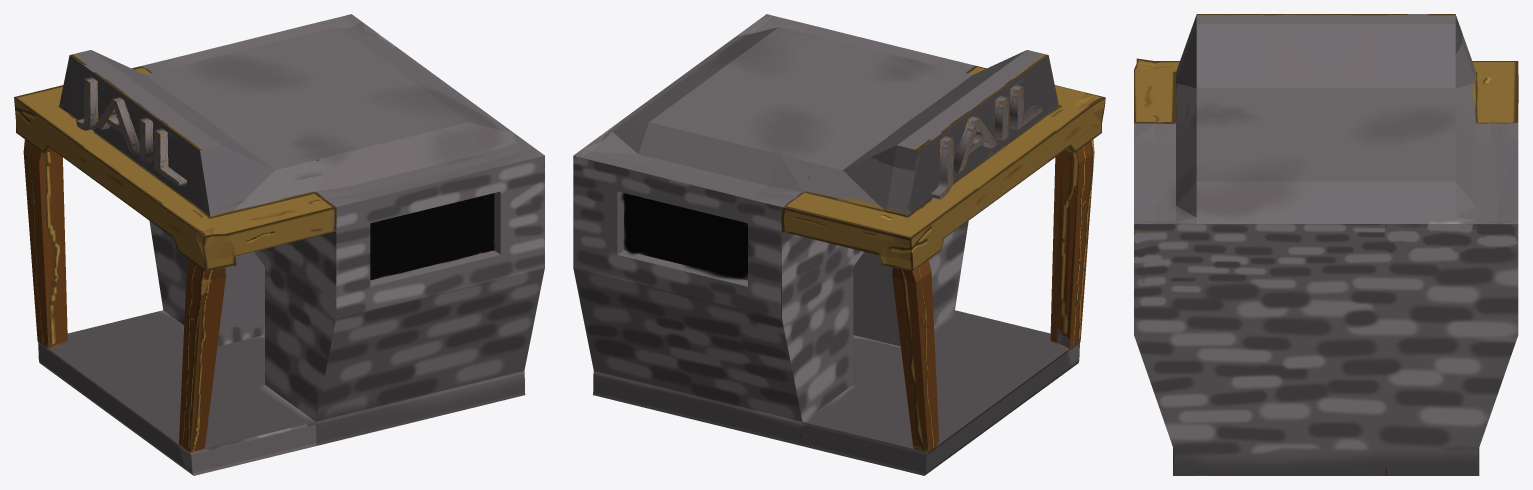
Rendered from jail.obj.
The picture shows the model from 3 angles, left to right: view 1: azimuth 30°, elevation 25°; view 2: azimuth 150°, elevation 25°; view 3: azimuth 270°, elevation 25°; orthographic projection.
Visible parts, largest first — view 1: jail_Cube.001, Text; view 2: jail_Cube.001, Text; view 3: jail_Cube.001.
Boxes of the visible parts, left/top/right/bottom form: jail_Cube.001: left=14, top=14, right=544, bottom=475; Text: left=76, top=77, right=186, bottom=187; jail_Cube.001: left=573, top=14, right=1105, bottom=475; Text: left=931, top=84, right=1042, bottom=199; jail_Cube.001: left=1134, top=14, right=1518, bottom=475.
Size of the model in its own units: 15.03 by 13.18 by 14.82.
2 materials, 2 textured.
